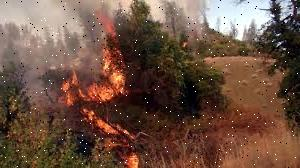fire: (55, 7, 123, 106), (74, 112, 152, 166)
